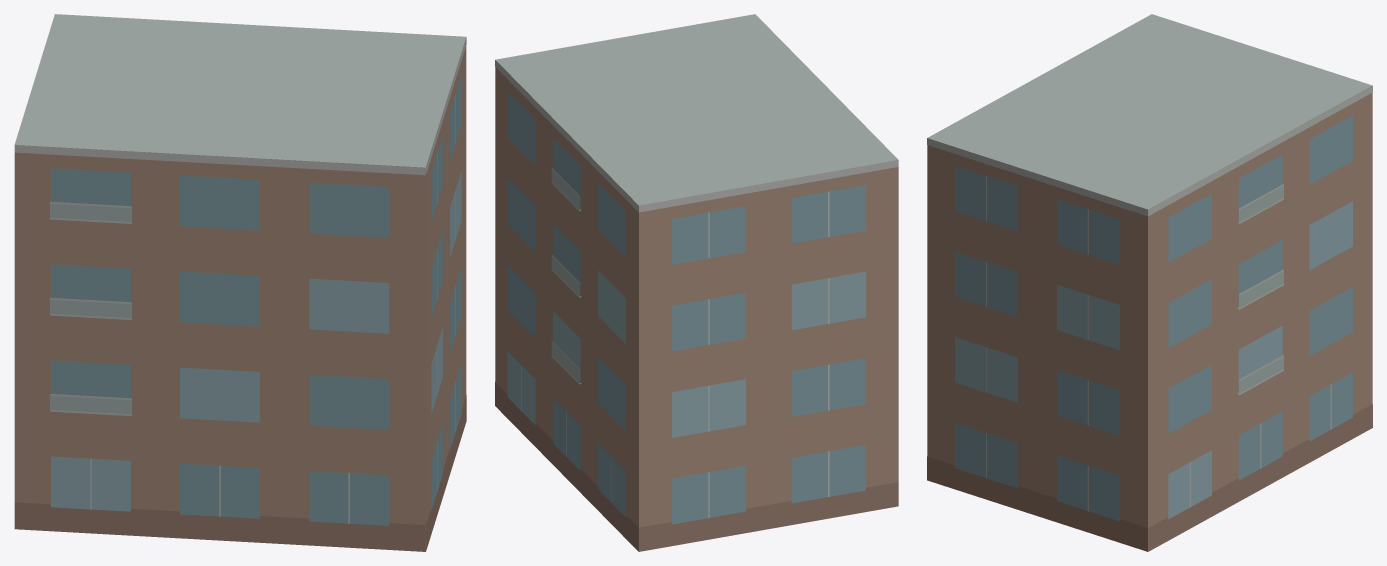
The model's file is residential-4a53cb3c-c7cf-4adf-813c-be90c4877763.glb.
3 renders of one model, left to right at view 1: azimuth 30°, elevation 25°; view 2: azimuth 150°, elevation 25°; view 3: azimuth 270°, elevation 25°, orthographic. The views are drawn at different scales.
Visible parts, largest first — view 1: residential-4a53cb3c-c7cf-4adf-813c-be90c4877763.tmp; view 2: residential-4a53cb3c-c7cf-4adf-813c-be90c4877763.tmp; view 3: residential-4a53cb3c-c7cf-4adf-813c-be90c4877763.tmp.
Boxes of the visible parts, x1,y1,x2,y2 form: residential-4a53cb3c-c7cf-4adf-813c-be90c4877763.tmp: [14, 14, 466, 551]; residential-4a53cb3c-c7cf-4adf-813c-be90c4877763.tmp: [495, 14, 898, 551]; residential-4a53cb3c-c7cf-4adf-813c-be90c4877763.tmp: [927, 14, 1372, 551].
Size of the model in its own units: 14.96 by 12.2 by 14.4.
